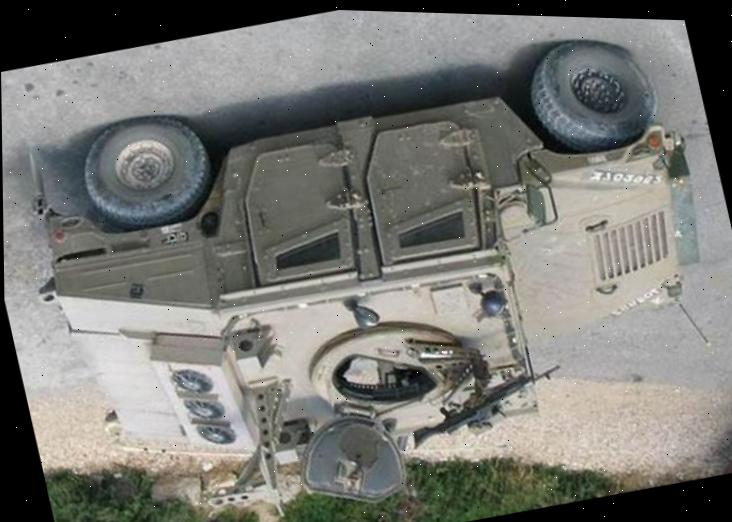armored_car: (3, 6, 732, 522)
